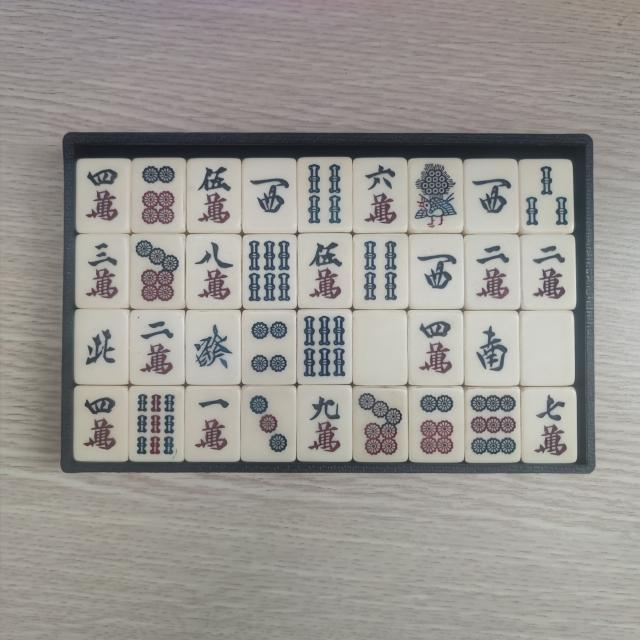hdg: (190, 317, 236, 381)
hdw: (529, 317, 572, 381), (360, 316, 402, 381)
hwn: (78, 316, 121, 380)
hws: (472, 318, 514, 382)
hww: (248, 164, 294, 228), (470, 164, 514, 228), (414, 240, 458, 304)
sb1: (412, 160, 460, 230)
sb3: (524, 165, 572, 232)
sb4: (302, 160, 347, 227), (360, 238, 403, 306)
sb6: (302, 315, 351, 382), (247, 238, 294, 306)
sb9: (134, 390, 180, 458)
sc1: (192, 392, 235, 458)
sc2: (470, 240, 516, 306), (528, 240, 572, 308), (134, 316, 179, 380)
sc3: (80, 237, 124, 304)
sc4: (79, 166, 124, 230), (415, 316, 458, 382), (78, 392, 121, 457)
sc5: (192, 163, 237, 230), (303, 238, 347, 305)
sc6: (360, 162, 402, 228)
sc7: (528, 391, 572, 462)
sc8: (191, 239, 237, 307)
sc9: (301, 391, 346, 458)
sd3: (246, 390, 292, 457)
sd4: (248, 315, 292, 380)
sd6: (136, 161, 180, 228), (416, 392, 458, 458)
sd7: (134, 238, 182, 307), (356, 392, 404, 458)
sd9: (469, 393, 517, 459)
